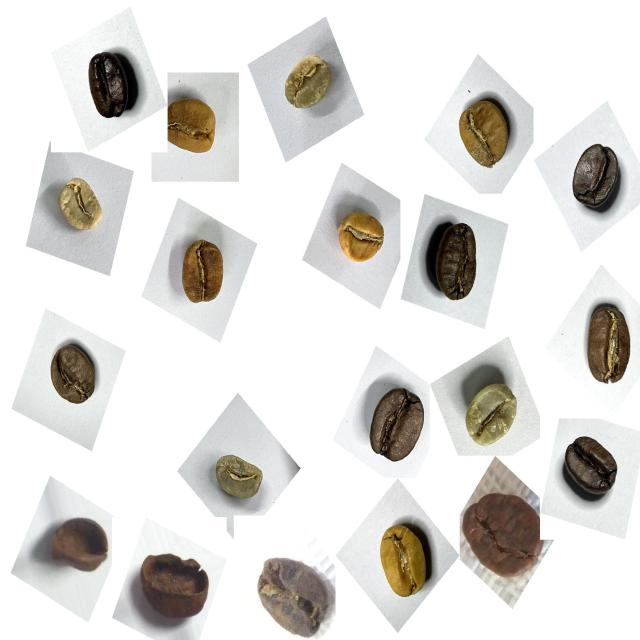bad: (456, 480, 550, 588), (248, 545, 336, 639), (132, 544, 219, 639), (40, 504, 116, 587)
dark: (73, 42, 144, 133), (560, 135, 630, 226), (555, 424, 628, 510)
green: (452, 369, 528, 460), (274, 48, 343, 126), (47, 169, 113, 244), (204, 444, 272, 514)
light: (363, 512, 438, 608), (448, 89, 521, 182), (158, 84, 230, 168), (172, 226, 238, 316), (328, 198, 393, 275)
medium: (419, 213, 492, 316), (358, 378, 434, 474), (572, 300, 640, 398), (38, 336, 106, 420)
